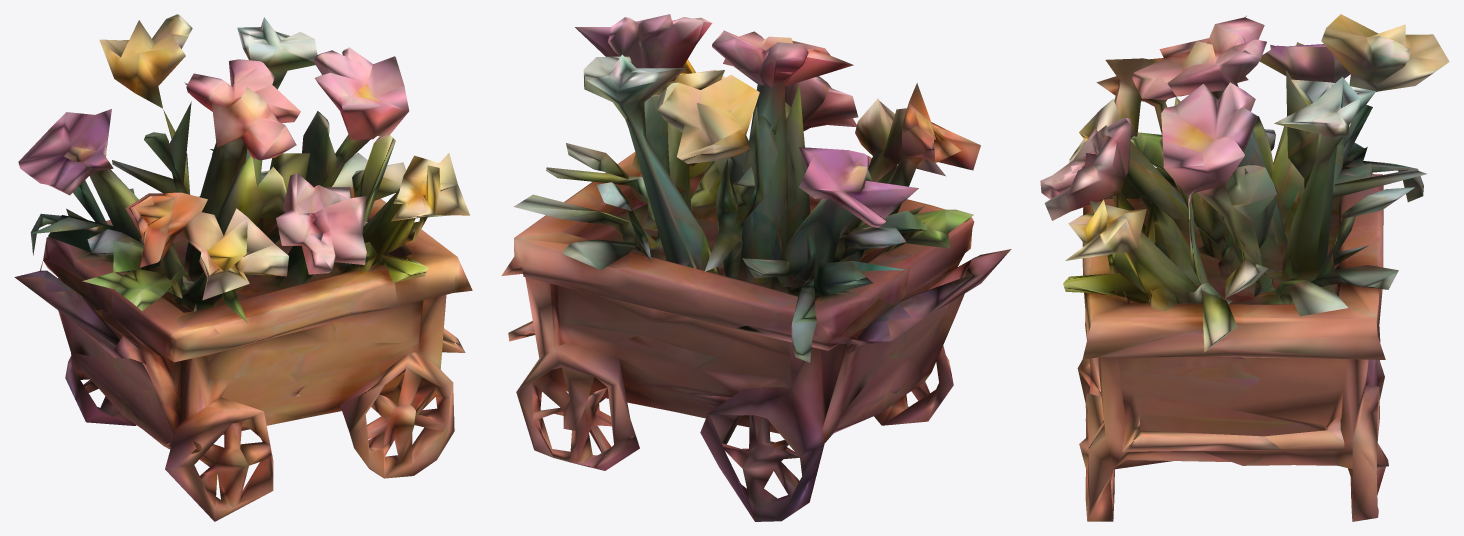
The model's file is flower_cart.glb.
3 renders of one model, left to right at view 1: azimuth 30°, elevation 25°; view 2: azimuth 150°, elevation 25°; view 3: azimuth 270°, elevation 25°, orthographic. The views are drawn at different scales.
Parts seen in each view (by area): view 1: tripo_node_bbc3bcd4-06d1-4673-a72a-26b6c816194c; view 2: tripo_node_bbc3bcd4-06d1-4673-a72a-26b6c816194c; view 3: tripo_node_bbc3bcd4-06d1-4673-a72a-26b6c816194c.
Boxes of the visible parts, x1,y1,x2,y2 form: tripo_node_bbc3bcd4-06d1-4673-a72a-26b6c816194c: [14, 14, 472, 521]; tripo_node_bbc3bcd4-06d1-4673-a72a-26b6c816194c: [501, 14, 1011, 521]; tripo_node_bbc3bcd4-06d1-4673-a72a-26b6c816194c: [1040, 14, 1449, 521].
Size of the model in its own units: 0.9504 by 0.9225 by 0.7987.
1 material, 1 textured.
